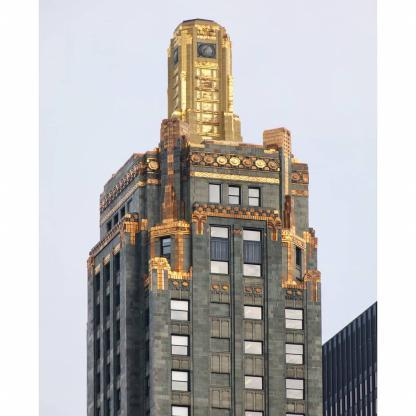Building Outline: (86, 18, 322, 416)
Deco: (195, 61, 220, 137), (197, 42, 216, 59)
Facade: (137, 153, 309, 416)
Floor: (153, 281, 322, 336), (154, 363, 322, 407), (153, 328, 322, 371), (193, 249, 282, 286), (154, 399, 322, 416)
Floor Slab: (153, 324, 322, 339), (154, 395, 322, 410), (154, 359, 322, 374), (153, 277, 321, 292), (190, 206, 282, 217), (193, 245, 282, 255)
Molding: (191, 203, 282, 241), (190, 150, 280, 174)
Top Floor: (190, 170, 282, 213), (193, 211, 282, 251)
Window: (171, 369, 191, 392), (170, 298, 190, 321), (171, 333, 190, 357), (285, 308, 304, 331), (286, 377, 305, 399), (286, 343, 305, 365), (244, 304, 263, 320), (244, 375, 263, 390), (244, 340, 263, 355), (210, 260, 230, 274), (243, 263, 263, 277), (243, 228, 263, 242), (248, 186, 261, 206), (228, 185, 241, 205), (209, 183, 221, 203), (171, 404, 191, 416), (210, 226, 229, 238), (245, 410, 264, 416), (286, 412, 305, 416)
